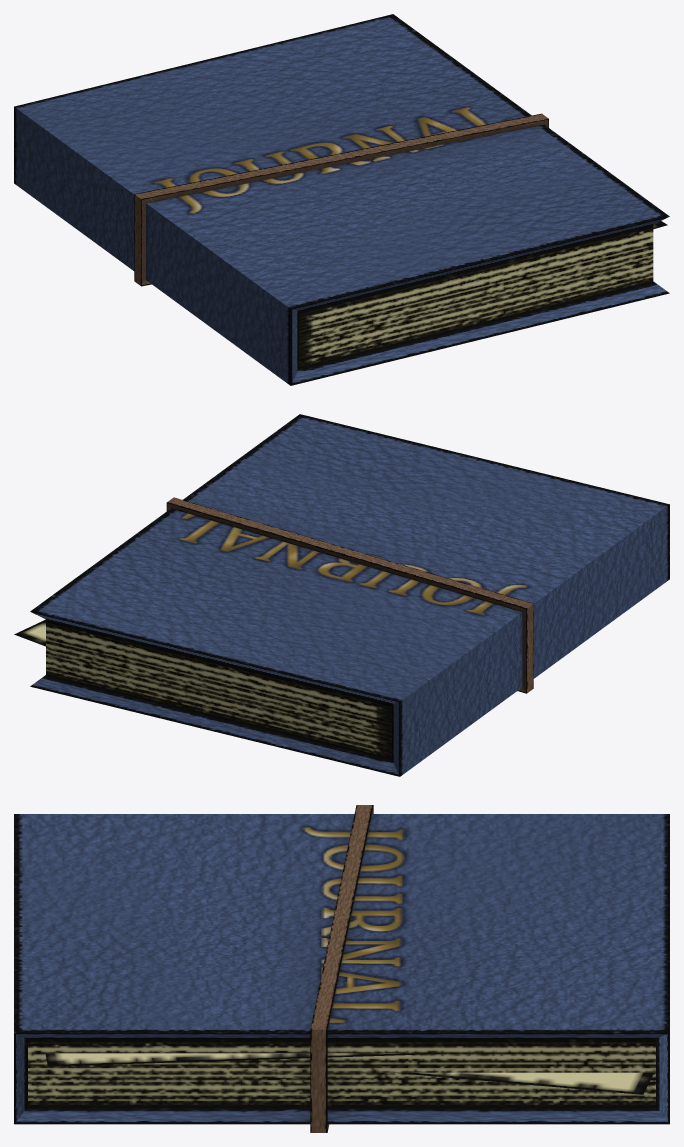
The model's file is collectible_journal.fbx.
The picture shows the model from 3 angles, top to bottom: view 1: azimuth 30°, elevation 25°; view 2: azimuth 150°, elevation 25°; view 3: azimuth 270°, elevation 25°; orthographic projection. The views are drawn at different scales.
Parts seen in each view (by area): view 1: Journal; view 2: Journal; view 3: Journal.
Boxes of the visible parts, x1,y1,x2,y2 form: Journal: (14, 14, 669, 385); Journal: (14, 414, 669, 776); Journal: (14, 805, 669, 1132).
Bounding box in the file's own units: 1975 × 399 × 2299.
